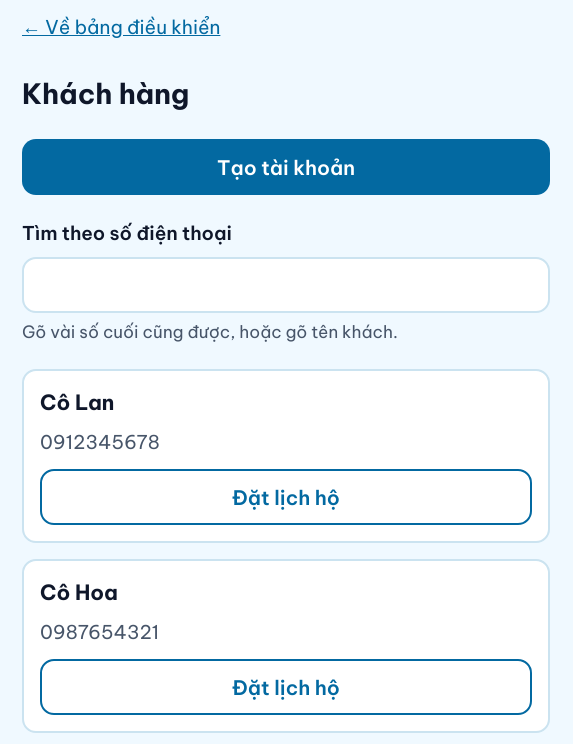
Scenario: CustomersScreen › 2. lọc TẠI CHỖ theo SĐT: gõ vài số là còn đúng khách đó, không gọi API mới
expect the text "Cô Lan" is shown: met, box left=40, top=389, right=114, bottom=416
Type "0987" into the field labelled "Tìm theo số điện thoại" at (286, 285), box left=22, top=257, right=550, bottom=313
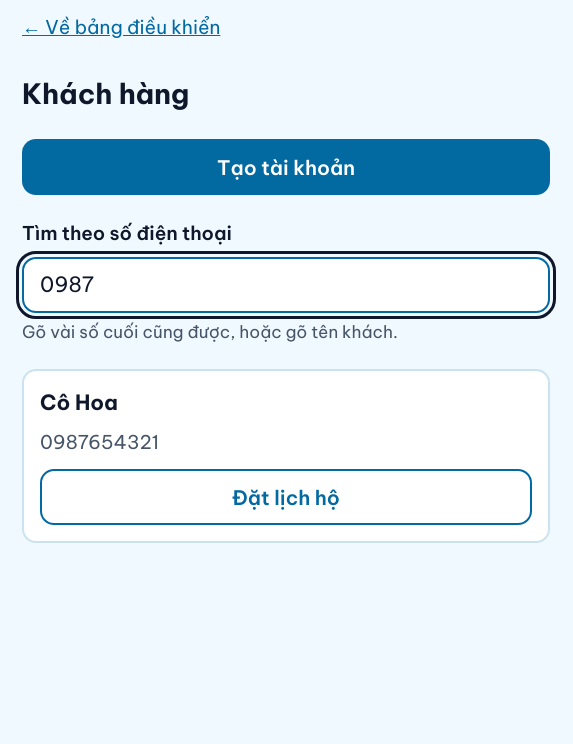
expect the text "Cô Hoa" is shown: met, box left=40, top=389, right=118, bottom=416
expect the text "Cô Lan" is gone: met
